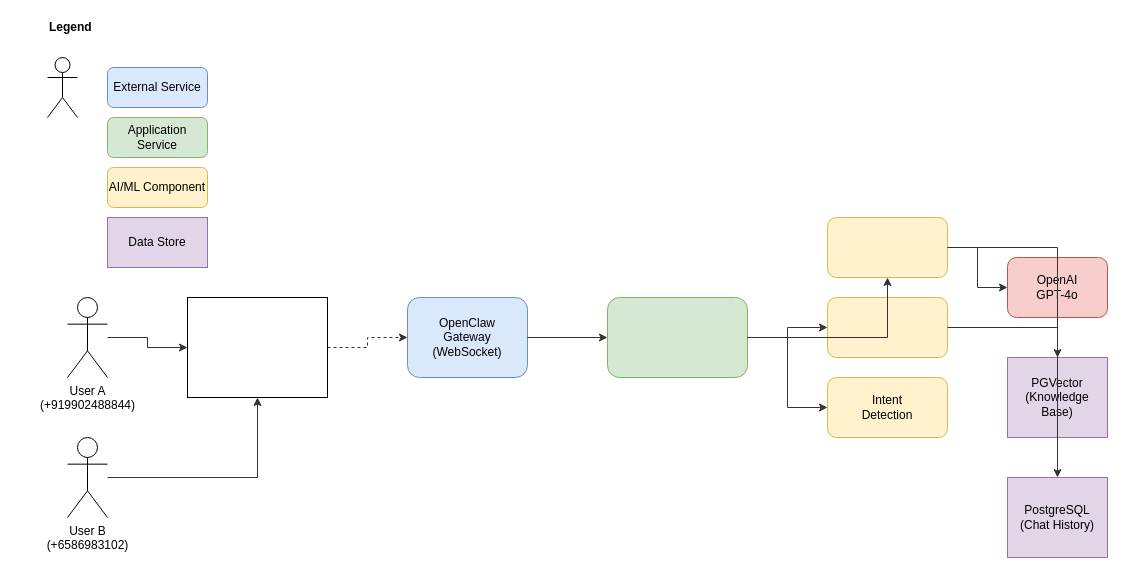
This 1125x575 diagram has some shape labels left out. The centre of each missing label's shape, as x and y in pixels:
AI Banking Assistant API (Spring Boot): (x=677, y=337)
Chat Service: (x=887, y=327)
RAG Service (LangChain4j): (x=887, y=247)
WhatsApp Cloud: (x=257, y=347)
WhatsApp Users: (x=62, y=87)
